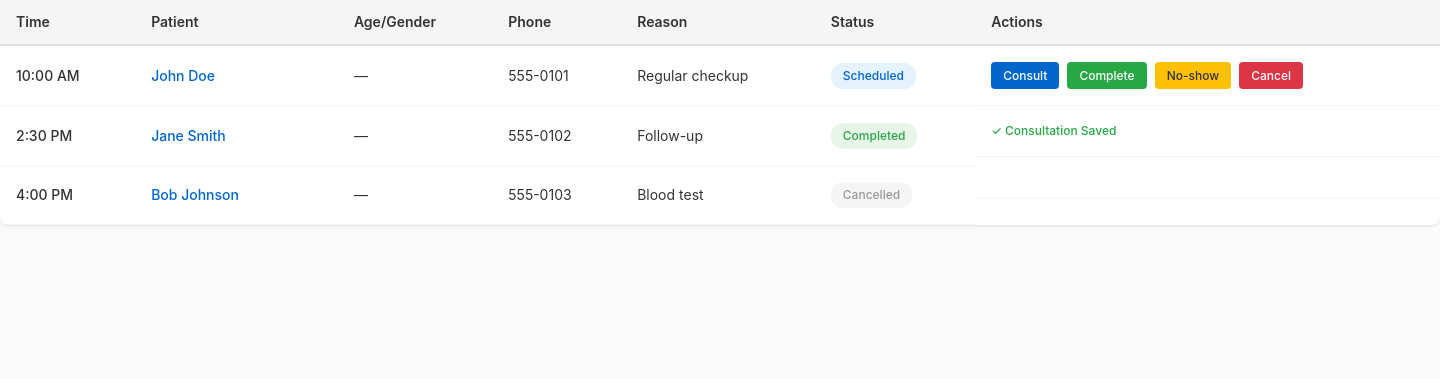
AppointmentList Component › Cancel Appointment › should show cancel confirmation dialog when Cancel button clicked
Click the button titled "Cancel Appointment": (1271, 76) [1239,62,1303,89]
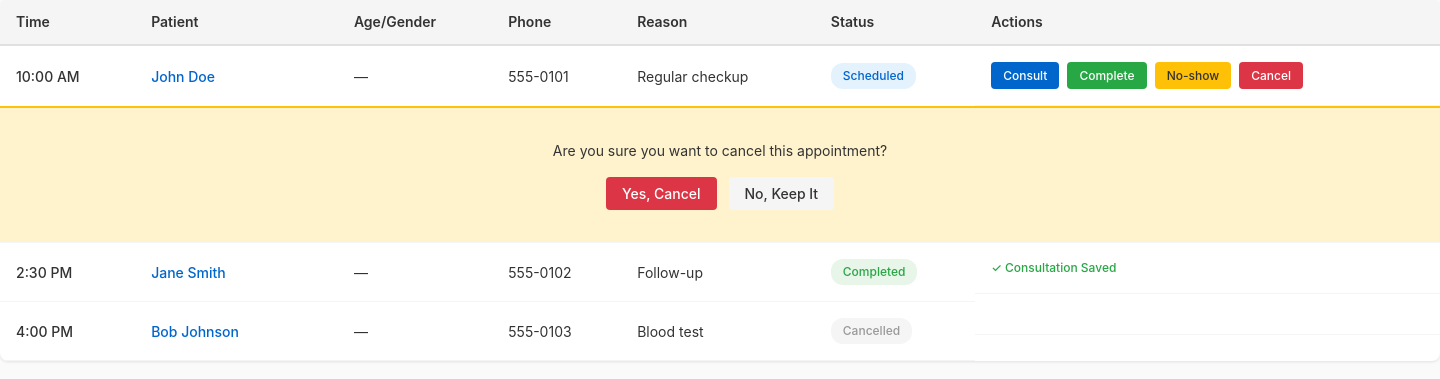
Check: the text "Are you sure you want to cancel this appointment?" is shown, box [553,142,887,159]
Check: the button "Yes, Cancel" is shown, box [606,177,716,210]
Check: the button "No, Keep It" is shown, box [728,177,834,210]
